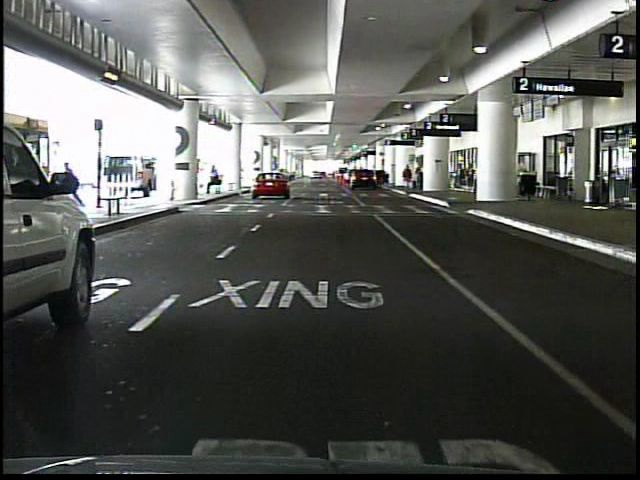person: (61, 159, 91, 216), (207, 166, 225, 195), (403, 163, 415, 192)
